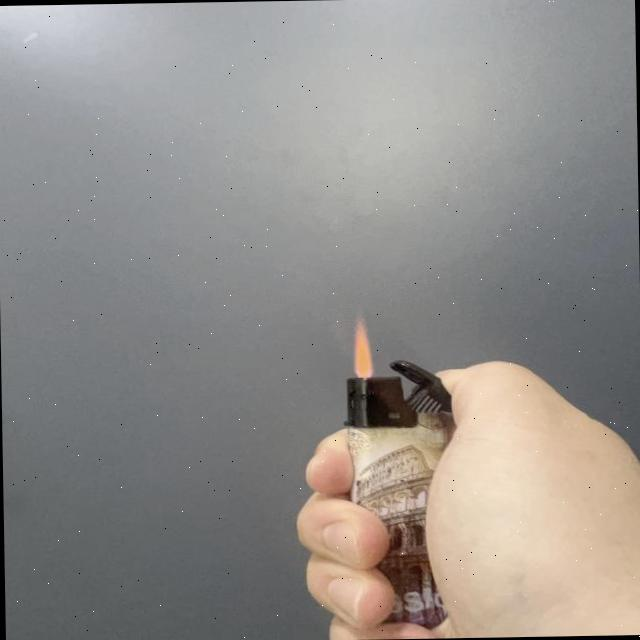fire: (348, 313, 377, 377)
